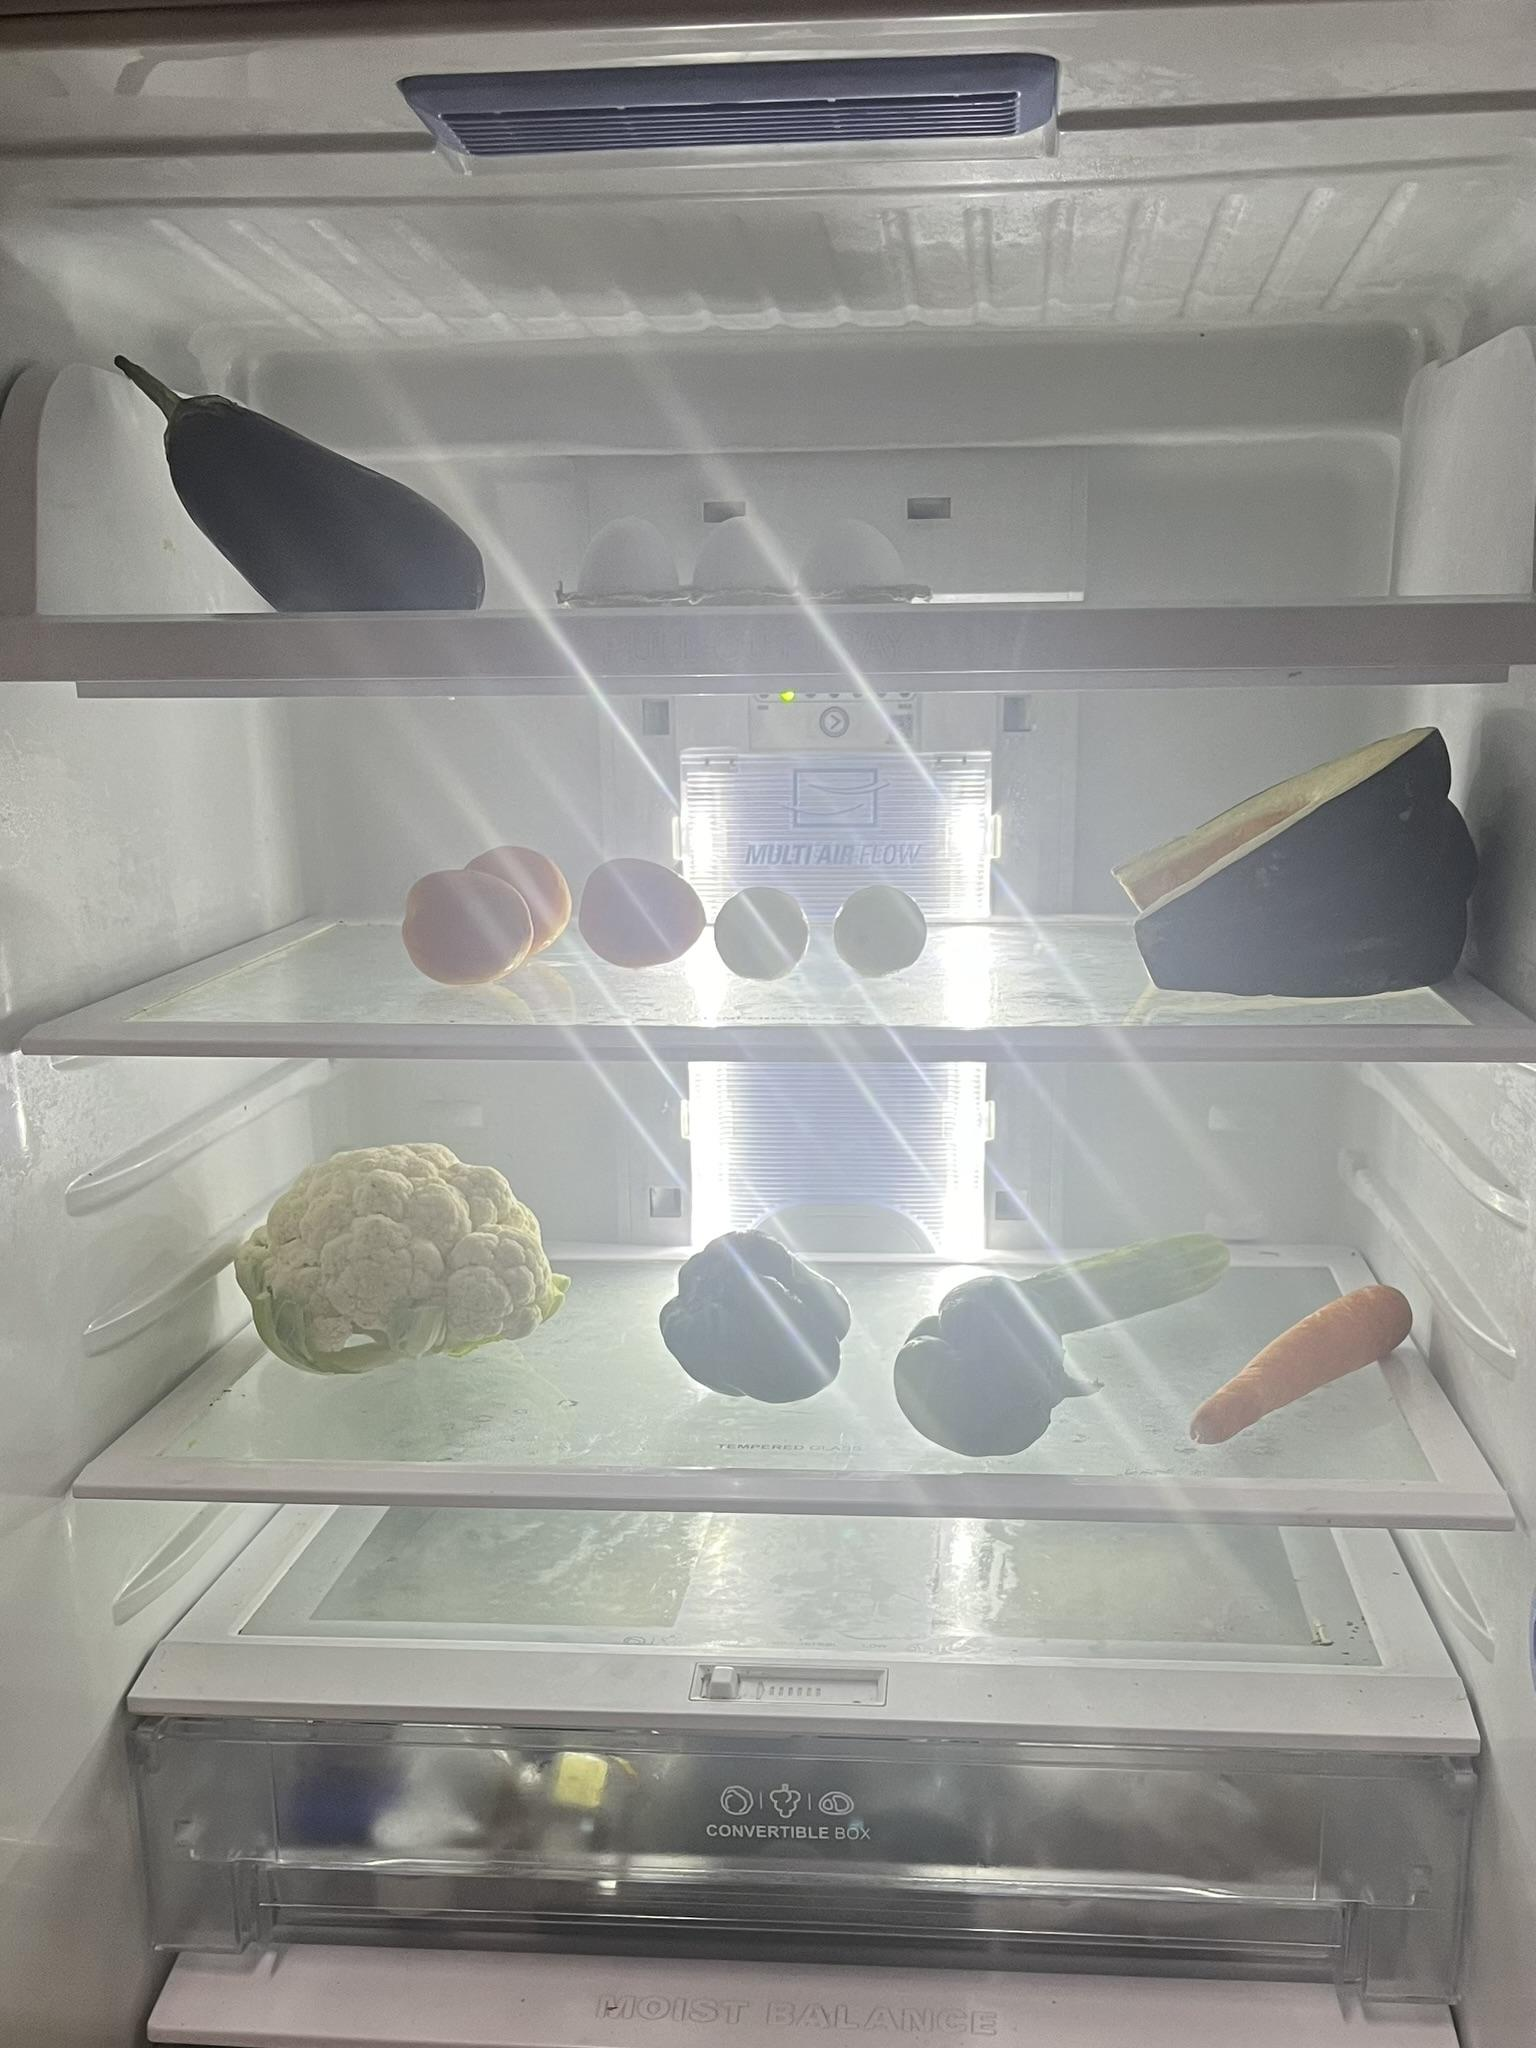bringal: (110, 337, 484, 606)
capsicum: (653, 1230, 860, 1413), (883, 1280, 1070, 1456)
cauliflower: (240, 1137, 553, 1366)
cucumber: (1176, 1277, 1407, 1443), (1020, 1230, 1250, 1327)
egg: (584, 500, 926, 606)
lemon: (723, 880, 823, 987), (833, 877, 926, 977)
pumpkin: (1107, 727, 1476, 1003)
tomato: (397, 837, 566, 984), (587, 837, 707, 974)
